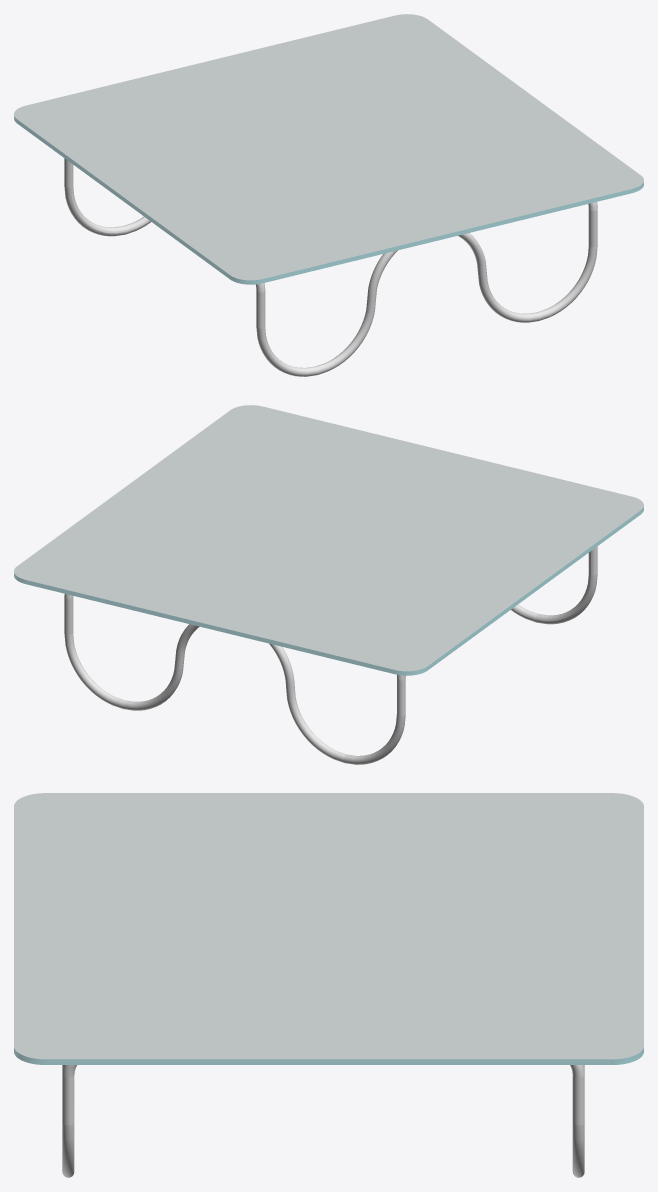
The model's file is FriendlyWave3_mv.glb.
3 renders of one model, top to bottom at view 1: azimuth 30°, elevation 25°; view 2: azimuth 150°, elevation 25°; view 3: azimuth 270°, elevation 25°, orthographic. The views are drawn at different scales.
Parts seen in each view (by area): view 1: FriendlyWave3_Top, FriendlyWave3_Leg; view 2: FriendlyWave3_Top, FriendlyWave3_Leg; view 3: FriendlyWave3_Top, FriendlyWave3_Leg.
Part boxes in pixels (x1,y1,x2,y2): FriendlyWave3_Top: (14, 14, 643, 284); FriendlyWave3_Leg: (64, 158, 597, 376); FriendlyWave3_Top: (14, 405, 643, 675); FriendlyWave3_Leg: (64, 546, 597, 764); FriendlyWave3_Top: (14, 793, 643, 1064); FriendlyWave3_Leg: (62, 1065, 584, 1177).
Bounding box in the file's own units: 1 × 0.3 × 1.
